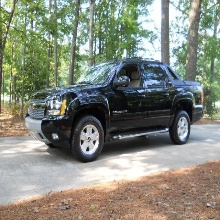no damage: (24, 58, 205, 163)
